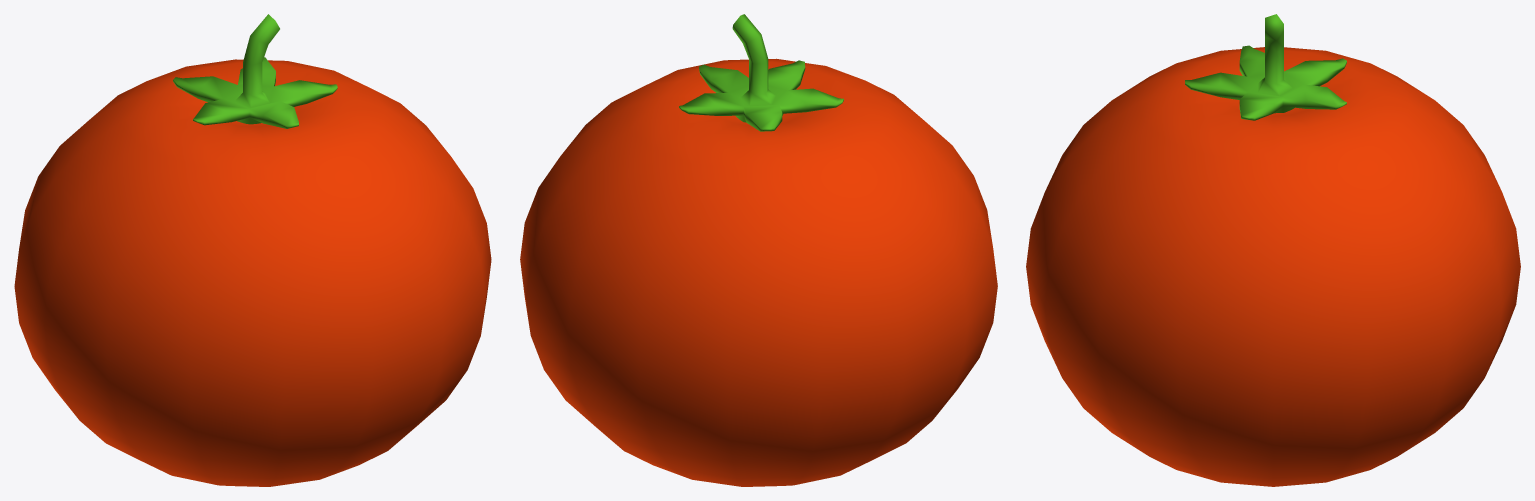
Rendered from tomato.fbx.
3 renders of one model, left to right at view 1: azimuth 30°, elevation 25°; view 2: azimuth 150°, elevation 25°; view 3: azimuth 270°, elevation 25°, orthographic. The views are drawn at different scales.
Visible parts, largest first — view 1: tomato_body, tomato_stem; view 2: tomato_body, tomato_stem; view 3: tomato_body, tomato_stem.
Part boxes in pixels (left/top/right/bottom): tomato_body: left=14, top=59, right=491, bottom=486; tomato_stem: left=173, top=14, right=337, bottom=128; tomato_body: left=520, top=58, right=997, bottom=486; tomato_stem: left=679, top=14, right=843, bottom=131; tomato_body: left=1026, top=47, right=1520, bottom=486; tomato_stem: left=1185, top=14, right=1346, bottom=120.
Size of the model in its own units: 200 by 203 by 200.
